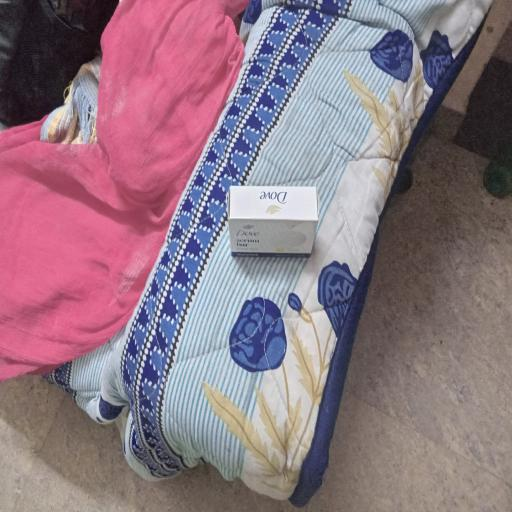Dove`1: (228, 186, 319, 261)
